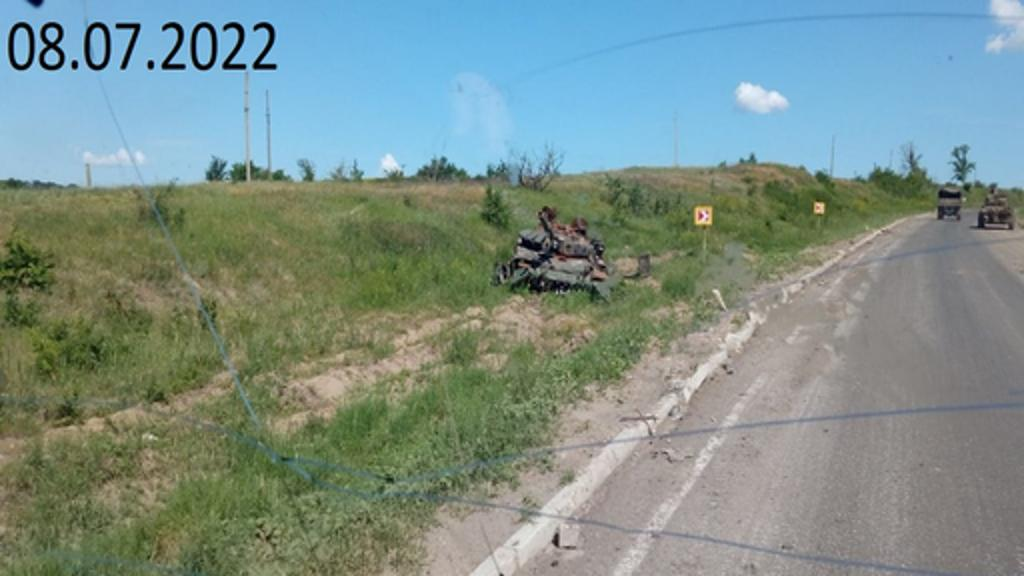APC-IFV: (974, 184, 1020, 236)
TANK: (500, 208, 636, 312)
TRUCK: (932, 180, 968, 224)
